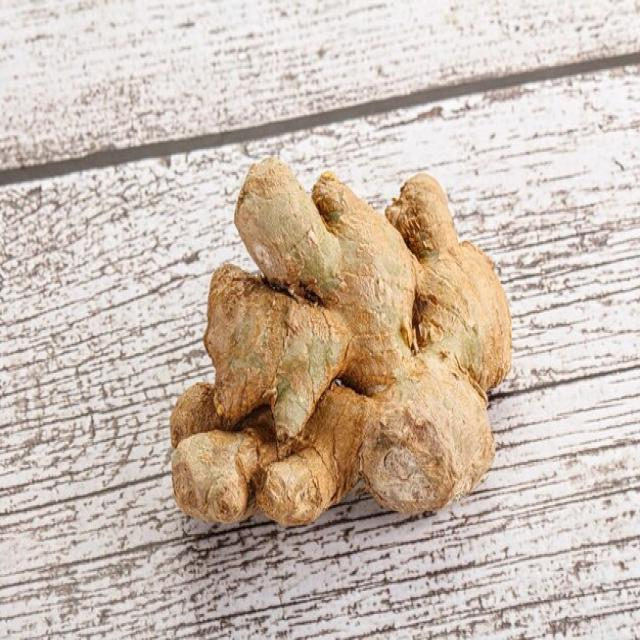ginger-root: (154, 147, 530, 574)
